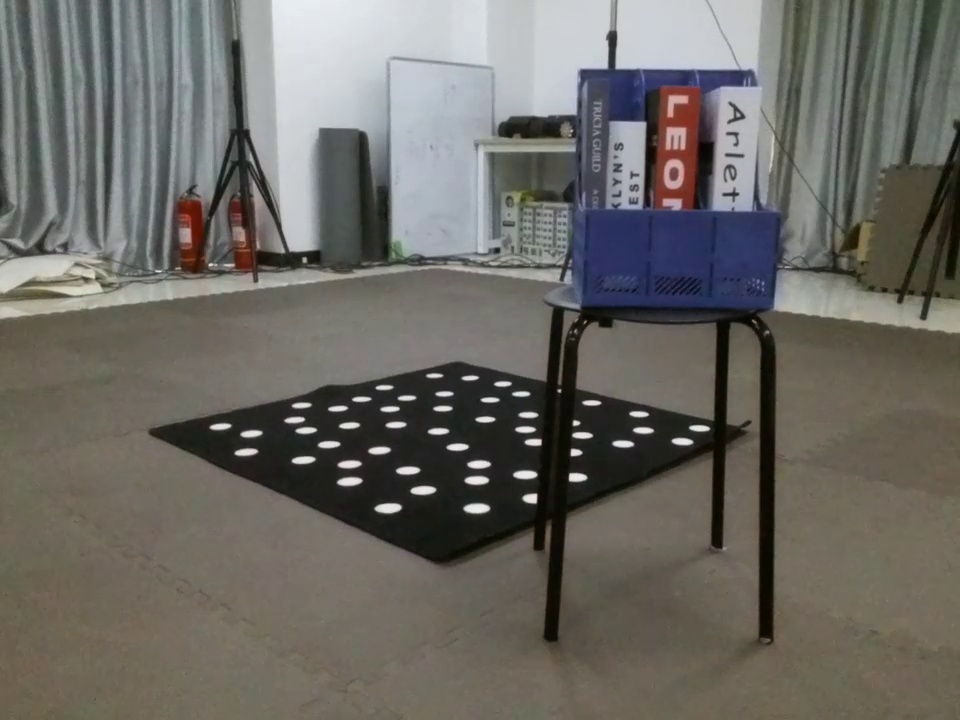files: (563, 58, 789, 320)
